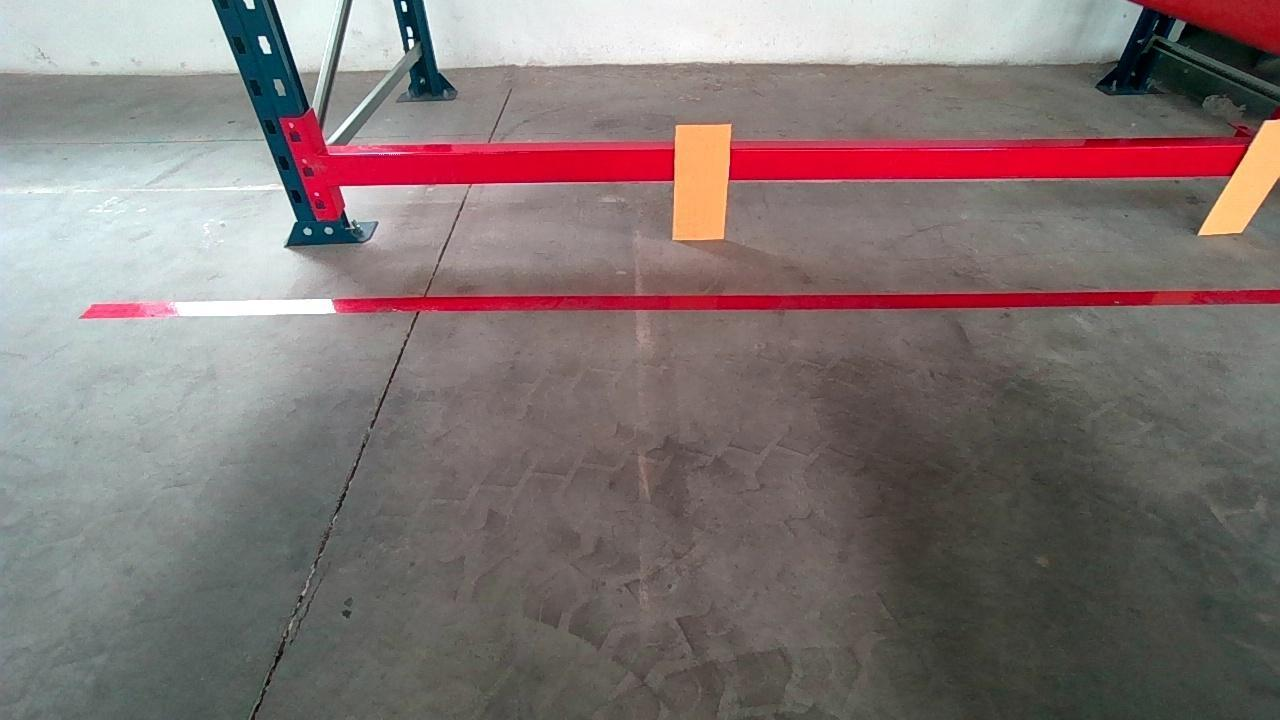h_rack: (322, 150, 1280, 184)
orange_strip: (1200, 124, 1280, 234), (673, 124, 731, 238)
red_line: (79, 286, 1280, 318)
